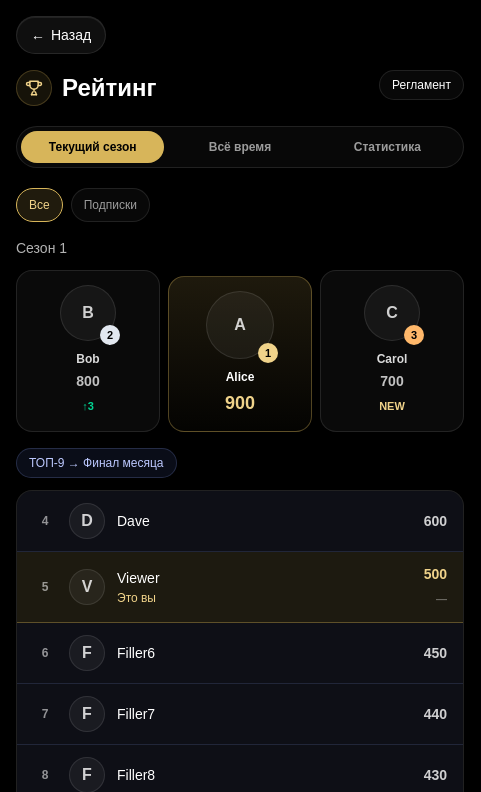
it: the Подписки view › J. rank movement stays on the right player (and absent where the server sent none)
This screenshot has width=481, height=792.
Click the button "Подписки". click: (110, 205)
box: [71,188,150,222]
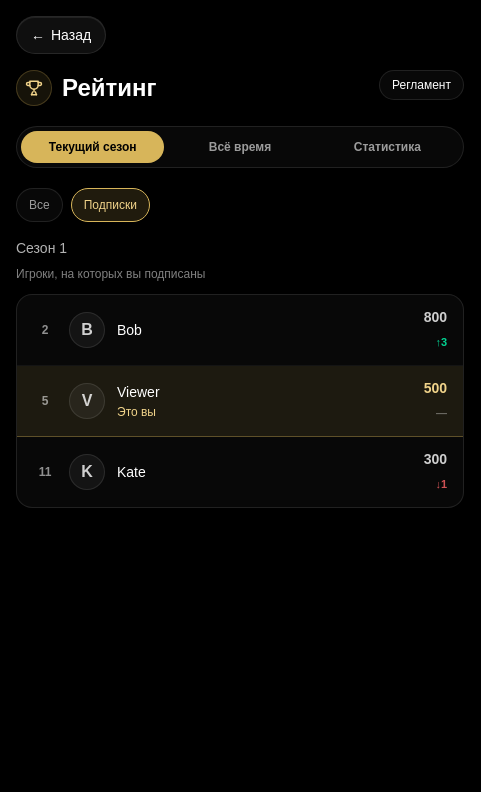
Check: the link "11 K Kate 300 ↓1" is shown, box [39,451,447,490]
Check: the link "2 B Bob 800 ↑3" is shown, box [17,295,463,366]
